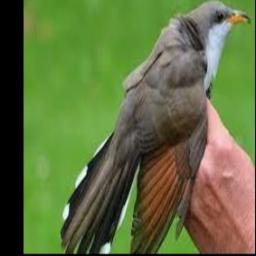Cuckoo: (60, 0, 251, 254)
